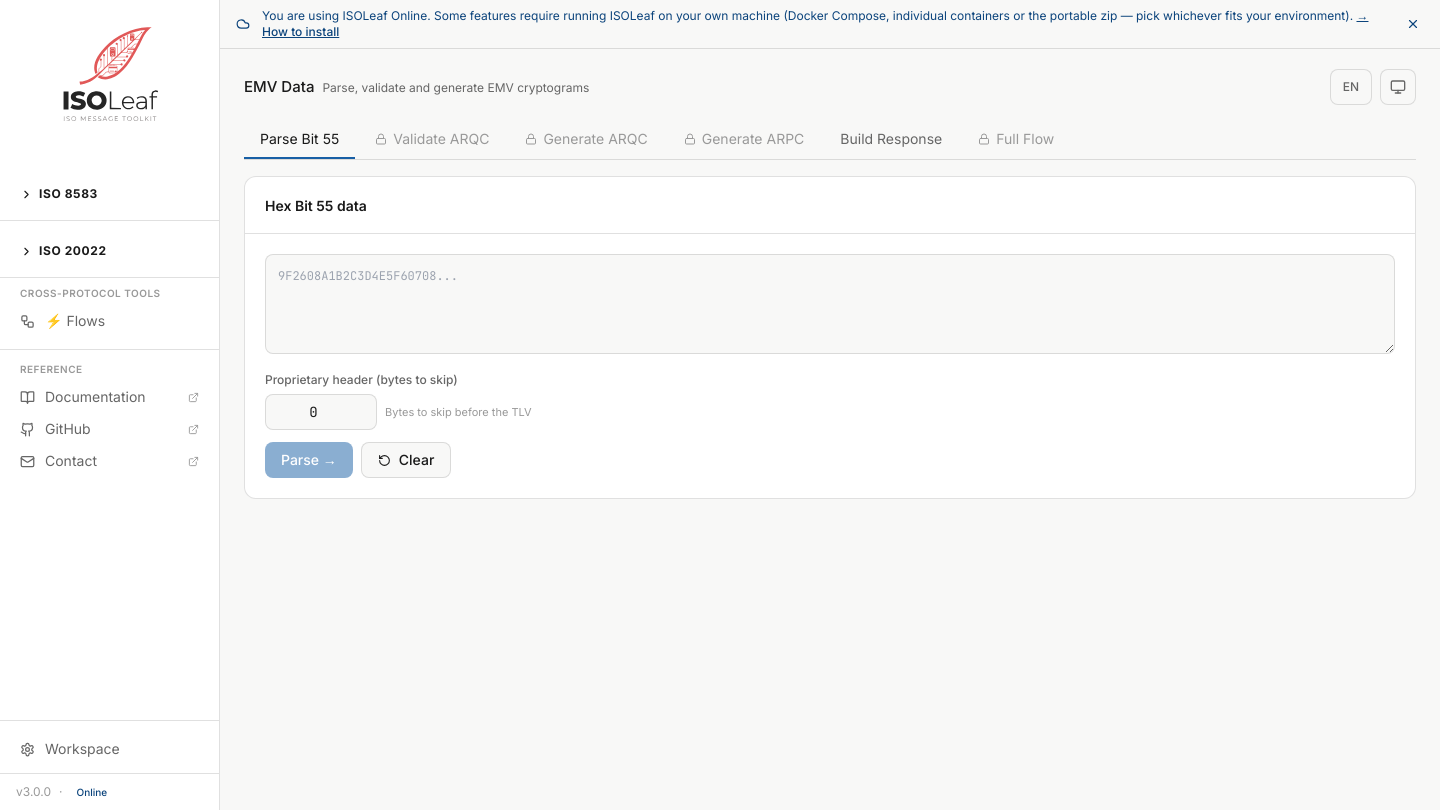
Test: AppConfig — online vs standalone mode › EMV crypto tabs disabled when emvCryptoEnabled is false
What coordinates should you click on to do the following:
click the tab "Validate ARQC"
I would click on:
 (432, 140)
Its box is [359,121,506,159].
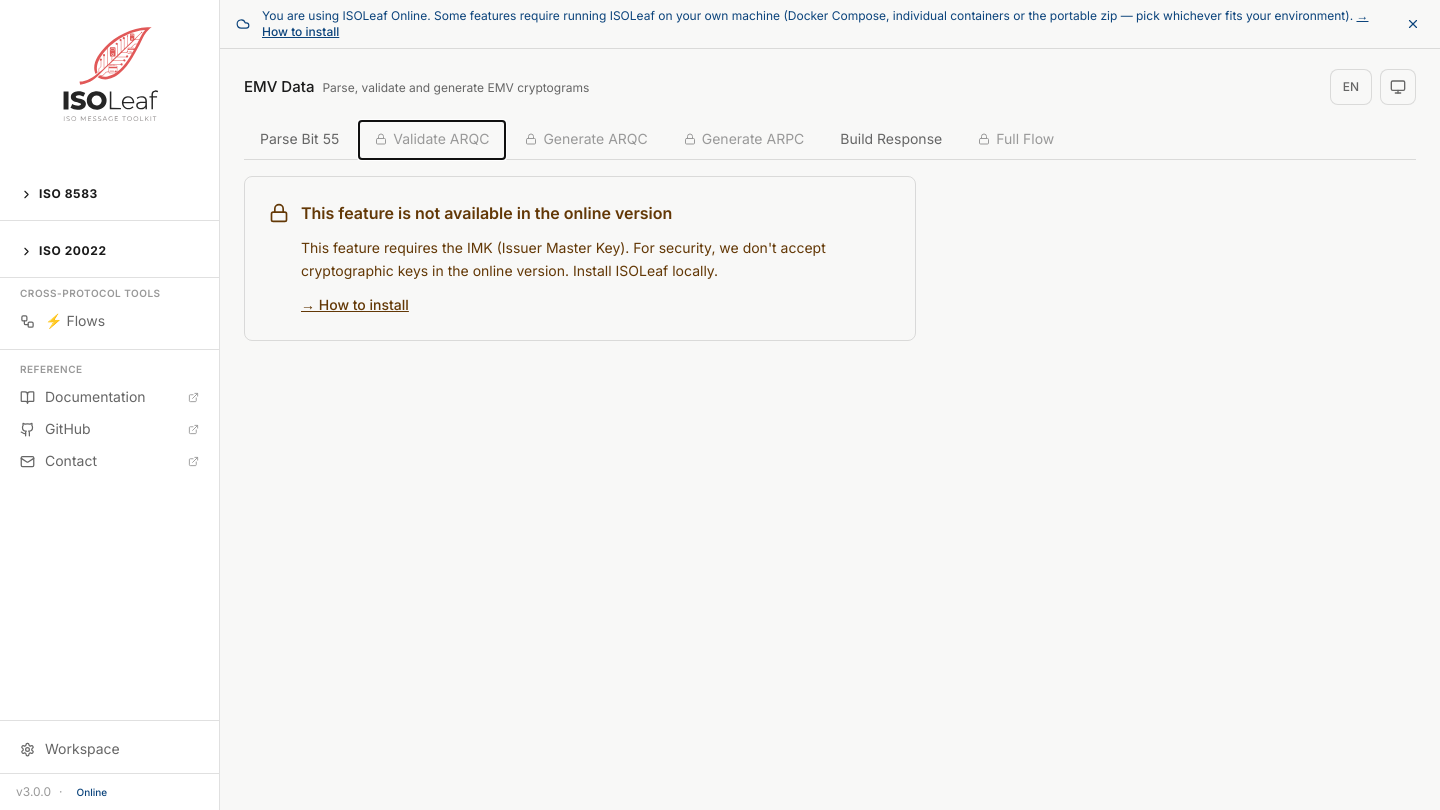
Now the text "This feature is not available in the online version" is shown, box [301,203,672,223]
